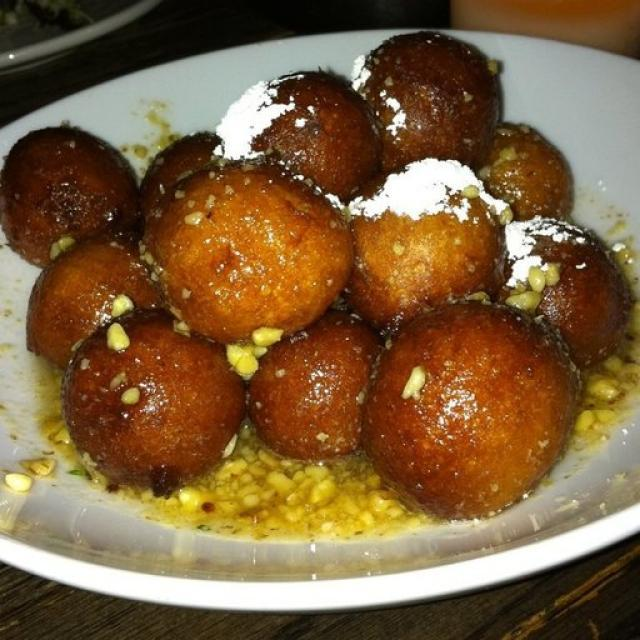Donuts: (5, 58, 627, 597)
